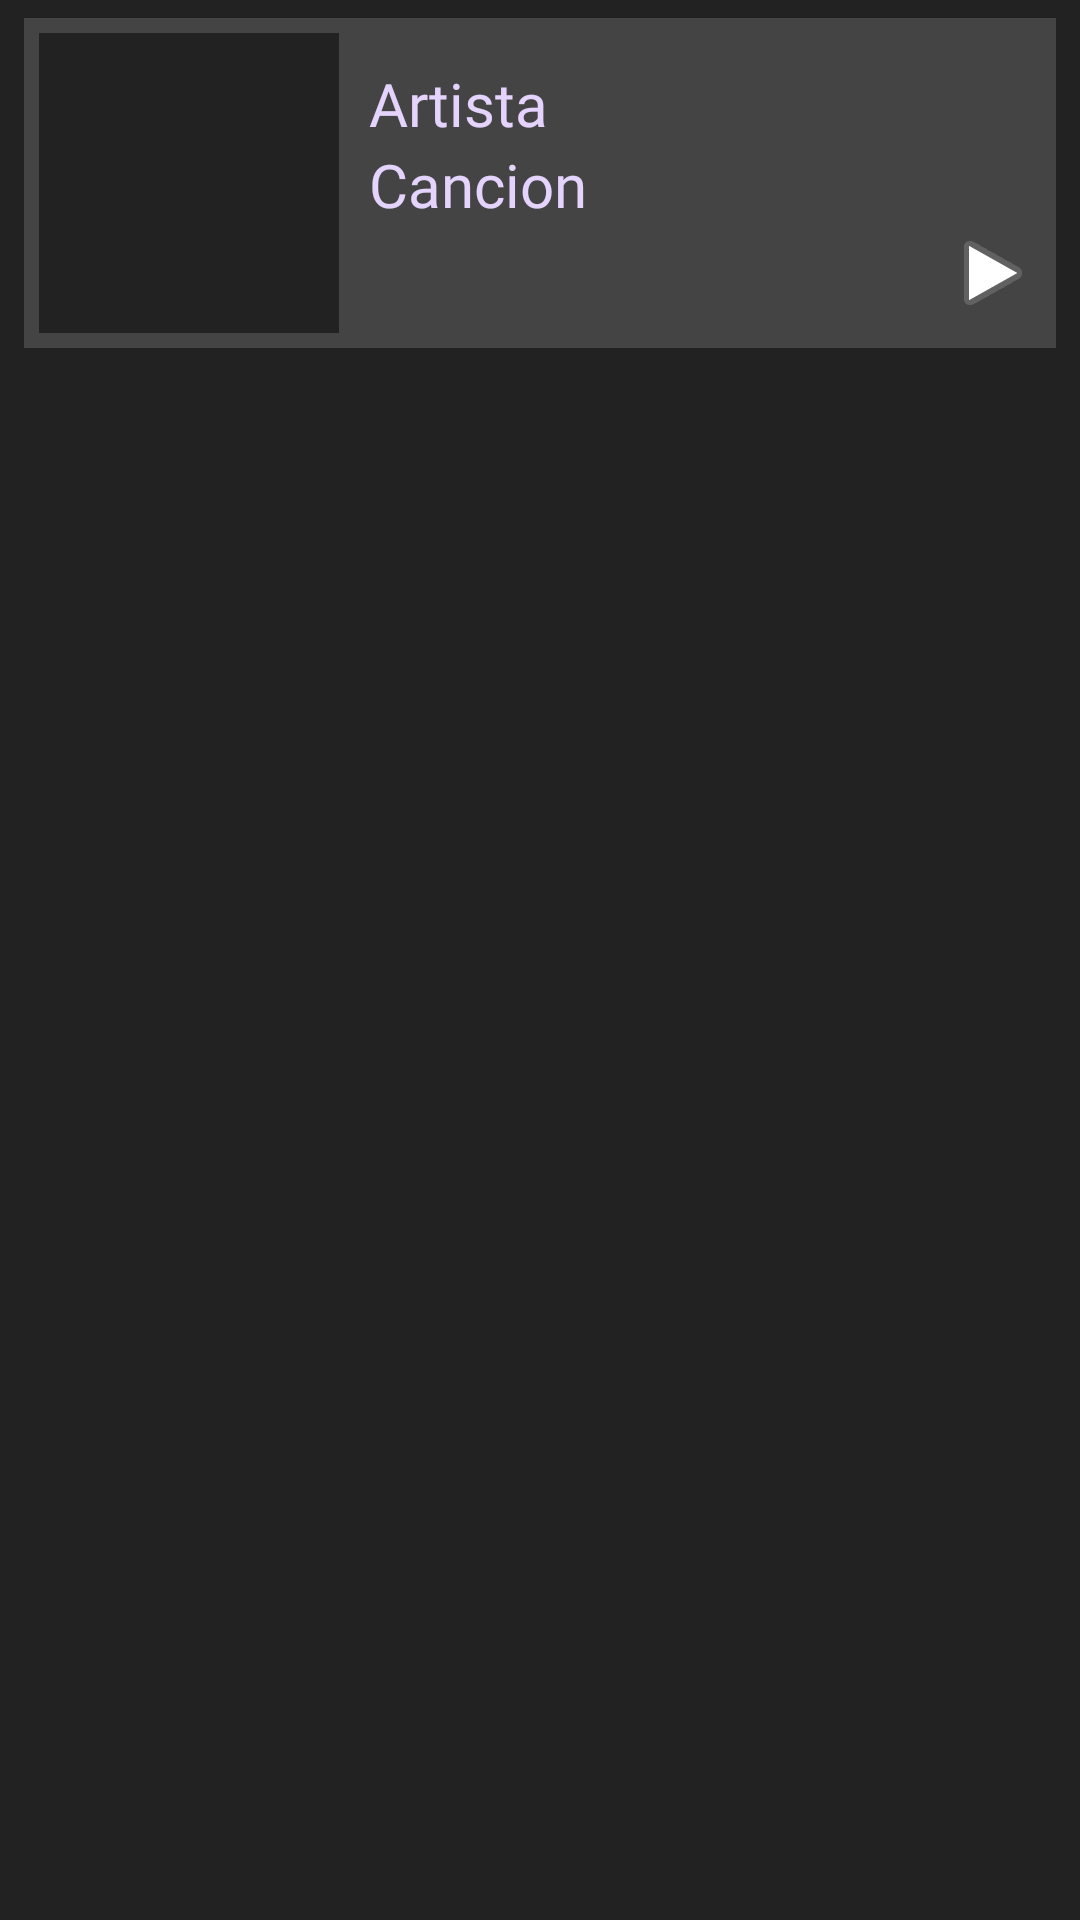

Icon click points for this 1080px x 1920px phone screenshot, format [x,y]:
play: [993,273]
